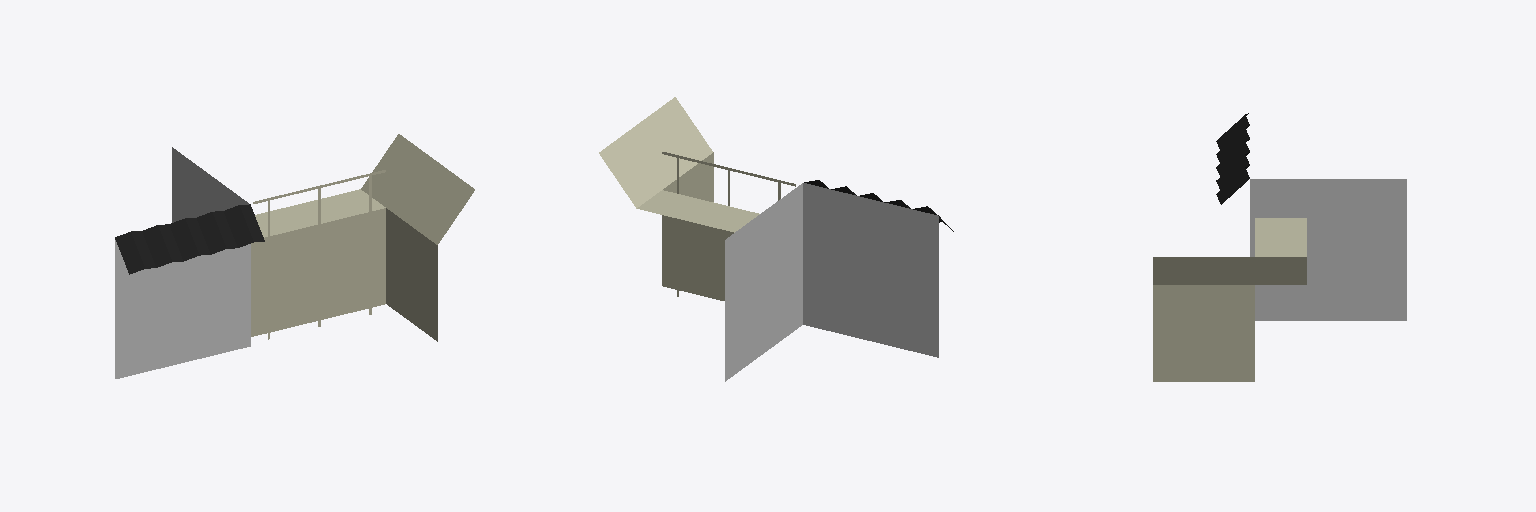
The model's file is level1.obj.
3 views of the same model, side by side, from view 1: azimuth 30°, elevation 25°; view 2: azimuth 150°, elevation 25°; view 3: azimuth 270°, elevation 25° (orthographic).
Visible parts, largest first — view 1: Mesh; view 2: Mesh; view 3: Mesh.
Part boxes in pixels (x1,y1,x2,y2): Mesh: (115,134,474,378); Mesh: (599,97,953,381); Mesh: (1153,113,1406,381).
Size of the model in its own units: 2.46 by 1.12 by 1.74.